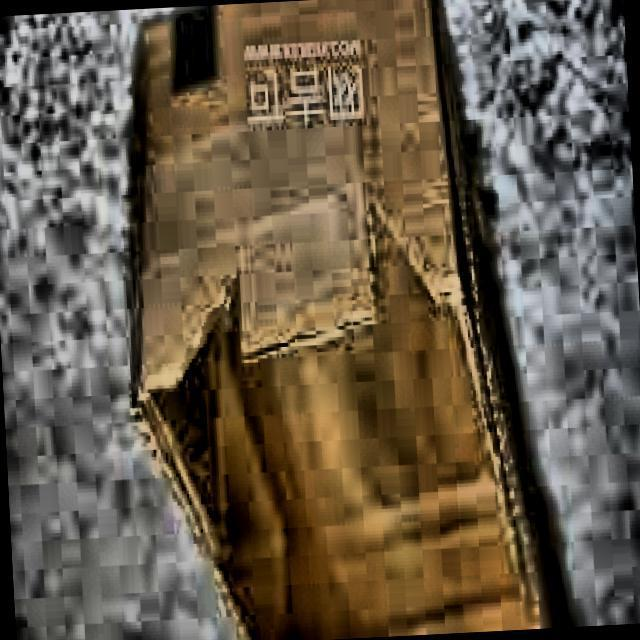cardboard: (107, 0, 559, 640)
